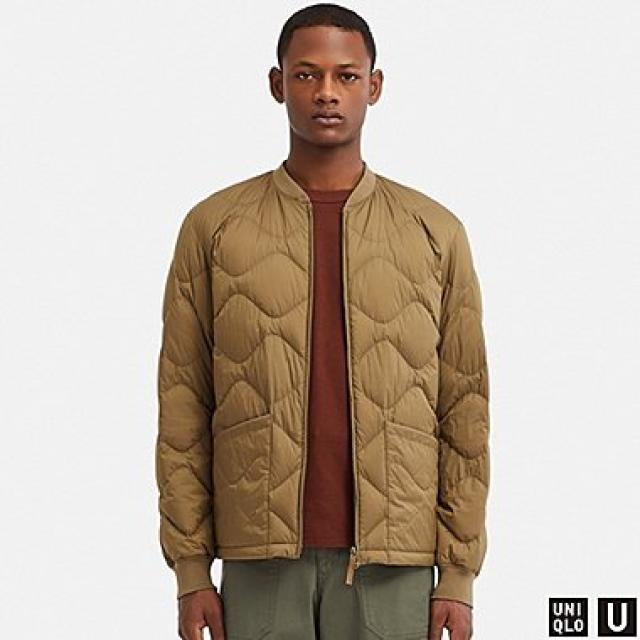mobile_phonerotation: (153, 0, 491, 638)
